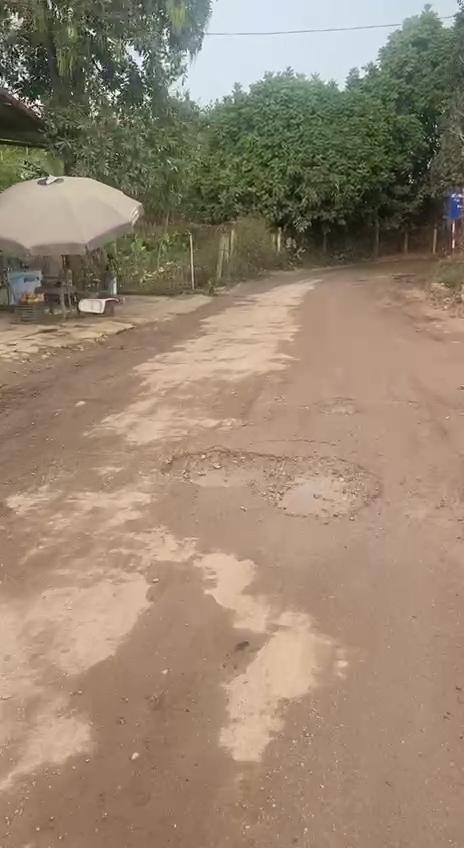pothole: (160, 448, 389, 526), (320, 392, 373, 420)
